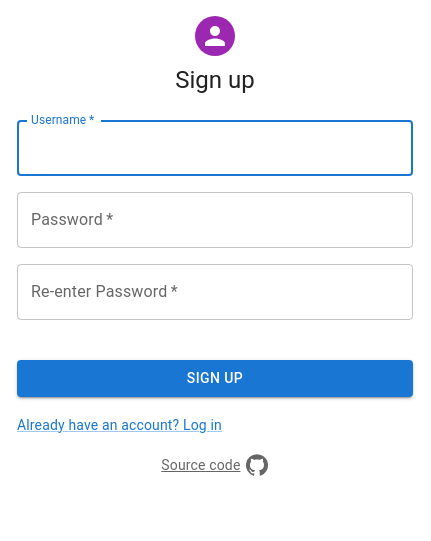
Test: Signup Page tests › should show errors on username field when no username is given
Type "123" into the password field with test id "password-field-1" at (215, 220), box [17, 192, 413, 248]
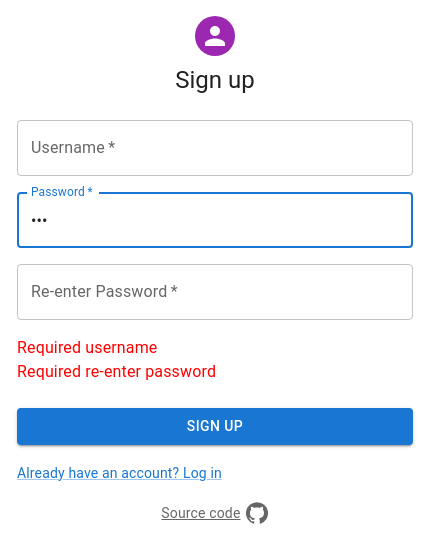
Expected: the text "Required username" is shown, [17, 338, 158, 357]
